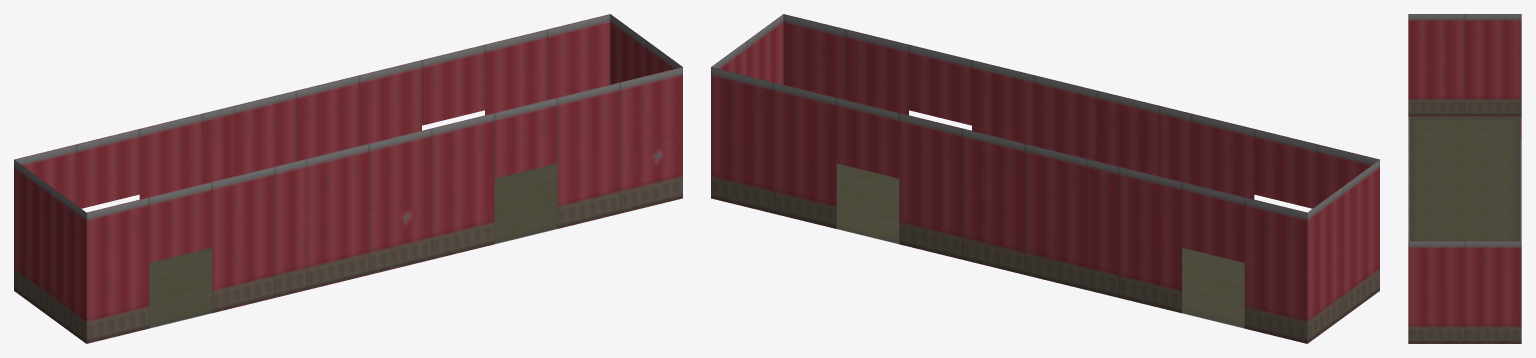
The model's file is Map_A_Corridor_Fix.fbx.
The picture shows the model from 3 angles, left to right: view 1: azimuth 30°, elevation 25°; view 2: azimuth 150°, elevation 25°; view 3: azimuth 270°, elevation 25°; orthographic projection. The views are drawn at different scales.
Parts seen in each view (by area): view 1: A_Corridor; view 2: A_Corridor; view 3: A_Corridor.
Part boxes in pixels (x1=…): A_Corridor: x1=14, y1=14, x2=682, y2=343; A_Corridor: x1=711, y1=14, x2=1379, y2=343; A_Corridor: x1=1408, y1=14, x2=1521, y2=343.
Bounding box in the file's own units: 19 × 4 × 4.
